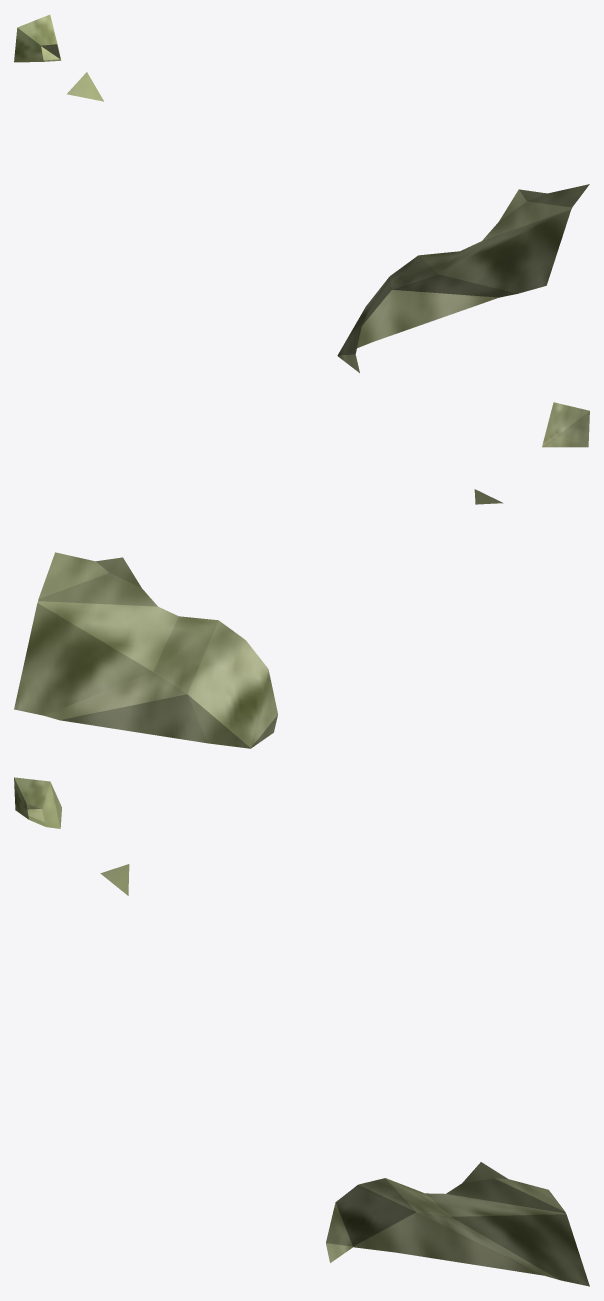
3 renders of one model, top to bottom at view 1: azimuth 30°, elevation 25°; view 2: azimuth 150°, elevation 25°; view 3: azimuth 330°, elevation 25°, orthographic. The views are drawn at different scales.
Bounding box in the file's own units: 1.44 × 1.03 × 0.1903.
Materials: 1 (1 with a texture image).
